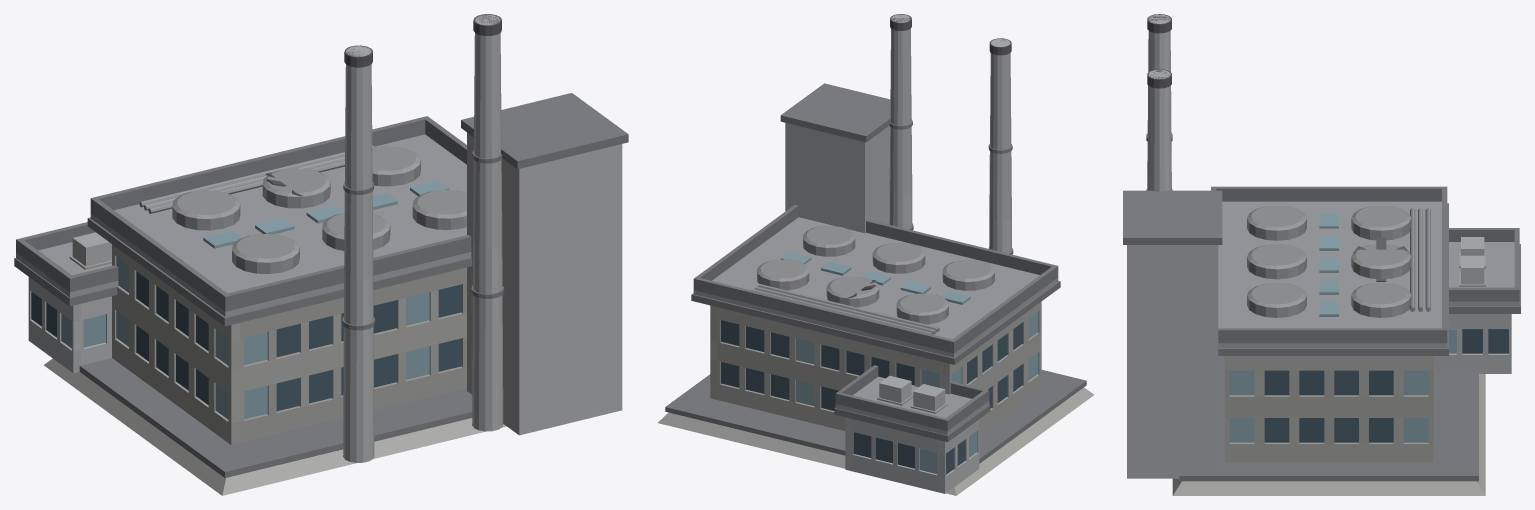
The model's file is western_power.glb.
3 renders of one model, left to right at view 1: azimuth 30°, elevation 25°; view 2: azimuth 150°, elevation 25°; view 3: azimuth 270°, elevation 25°, orthographic. The views are drawn at different scales.
Parts seen in each view (by area): view 1: hrsg, hall_wall, hall_deck, hall_glass, hall_parapet, stack_l, flue_r, plinth_cap, plinth, control_wall, hall_fascia, control_parapet (+12 smaller); view 2: hall_wall, hrsg, hall_deck, hall_parapet, plinth_cap, hall_glass, control_wall, flue_r, stack_l, plinth, control_parapet, hall_fascia (+12 smaller); view 3: hrsg, hall_deck, hall_wall, plinth_cap, hall_parapet, hall_glass, plinth, flue_r, control_wall, control_deck, control_parapet, hall_fascia (+12 smaller).
Part boxes in pixels (<box>): hrsg: <box>461,93,628,435</box>; hall_wall: <box>112,244,466,444</box>; hall_deck: <box>90,134,471,316</box>; hall_glass: <box>116,256,461,419</box>; hall_parapet: <box>90,116,471,311</box>; stack_l: <box>342,45,375,462</box>; flue_r: <box>471,14,504,431</box>; plinth_cap: <box>79,358,472,477</box>; plinth: <box>44,358,506,495</box>; control_wall: <box>28,277,111,373</box>; hall_fascia: <box>87,217,472,326</box>; control_parapet: <box>16,222,118,292</box>; hall_wall: <box>710,301,1041,434</box>; hrsg: <box>780,83,890,233</box>; hall_deck: <box>693,217,1058,357</box>; hall_parapet: <box>693,205,1058,353</box>; plinth_cap: <box>665,370,1086,463</box>; hall_glass: <box>721,311,1038,410</box>; control_wall: <box>845,417,979,493</box>; flue_r: <box>889,14,913,230</box>; stack_l: <box>988,38,1013,254</box>; plinth: <box>658,387,1094,495</box>; control_parapet: <box>835,365,989,431</box>; hall_fascia: <box>691,281,1060,364</box>; hrsg: <box>1123,190,1222,478</box>; hall_deck: <box>1218,201,1447,347</box>; hall_wall: <box>1224,356,1433,462</box>; plinth_cap: <box>1179,356,1478,481</box>; hall_parapet: <box>1211,186,1447,343</box>; hall_glass: <box>1229,370,1428,442</box>; plinth: <box>1172,374,1485,495</box>; flue_r: <box>1146,69,1172,191</box>; control_wall: <box>1433,314,1511,373</box>; control_deck: <box>1449,242,1519,306</box>; control_parapet: <box>1449,228,1519,301</box>; hall_fascia: <box>1218,203,1448,355</box>.
Bounding box in the file's own units: 30.7 × 31.89 × 30.5.
